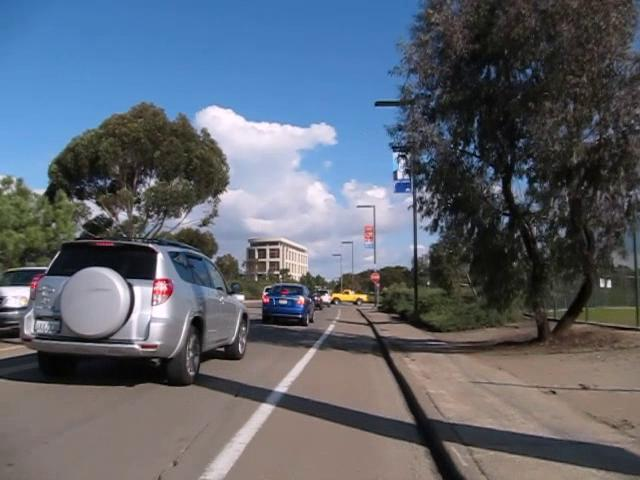stop: (370, 271, 380, 283)
